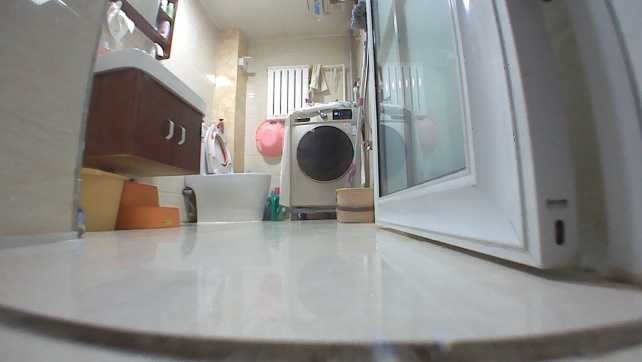door_sill: (0, 297, 640, 361)
toilet: (182, 123, 269, 222)
washing_machine: (278, 100, 369, 218)
washstand: (75, 47, 205, 175)
